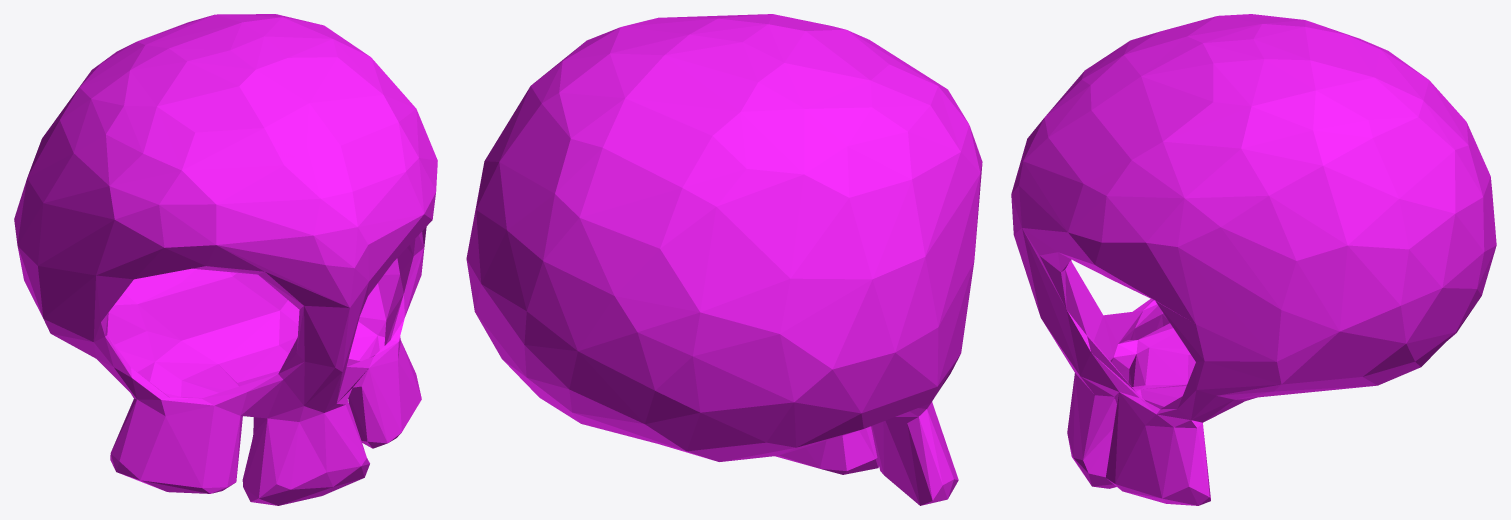
Rendered from hard_to_run_trap.glb.
The picture shows the model from 3 angles, left to right: view 1: azimuth 30°, elevation 25°; view 2: azimuth 150°, elevation 25°; view 3: azimuth 270°, elevation 25°; orthographic projection. The views are drawn at different scales.
Parts seen in each view (by area): view 1: hard_to_run_trap_BAKED; view 2: hard_to_run_trap_BAKED; view 3: hard_to_run_trap_BAKED.
Part boxes in pixels (x1,y1,x2,y2): hard_to_run_trap_BAKED: [14, 14, 437, 505]; hard_to_run_trap_BAKED: [466, 14, 982, 505]; hard_to_run_trap_BAKED: [1011, 14, 1496, 505].
Size of the model in its own units: 2.4 by 2.5 by 2.57.
